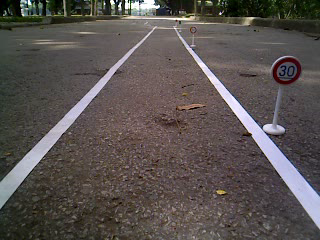limit 30: (269, 54, 305, 87)
